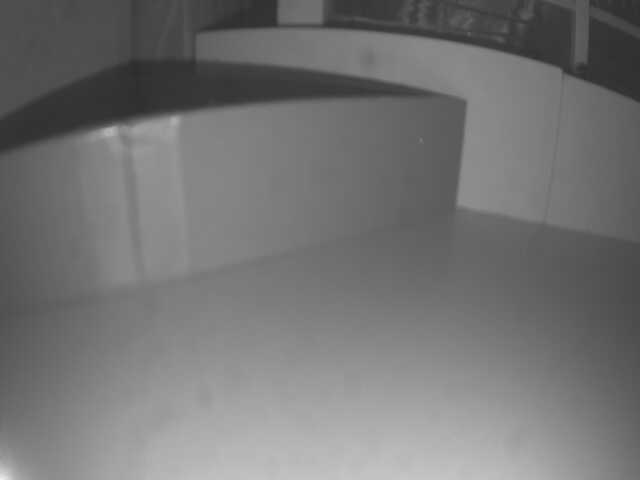Point: (2, 99, 470, 314)
